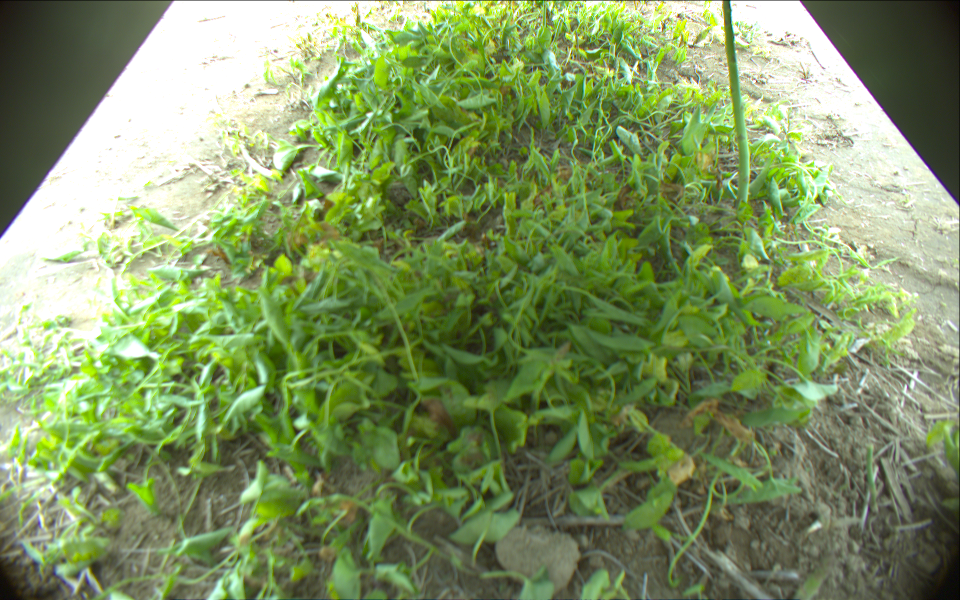aspa: (720, 1, 750, 205)
